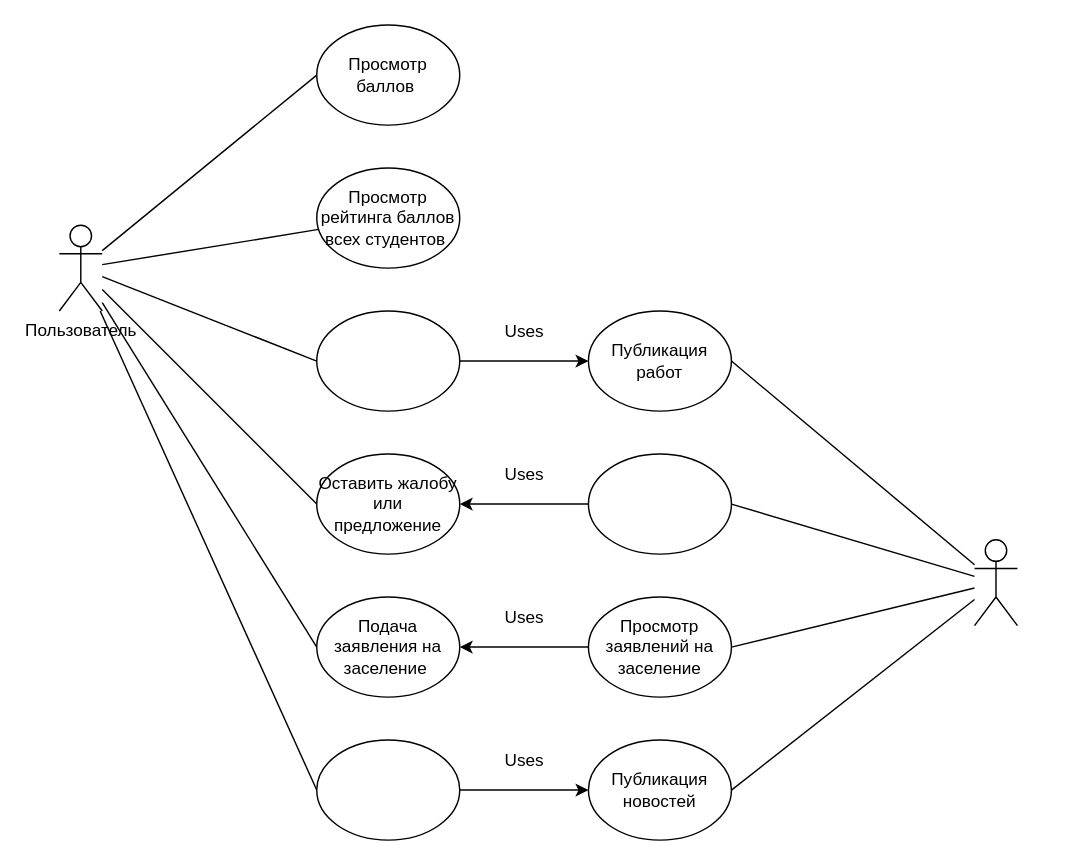
The diagram is 1083 pixels wide and 865 high, and some of its shapes have lost their labels. Each missing label, with the box of its shape:
Администратор: (973, 538, 1017, 626)
Запись на работу: (315, 310, 460, 411)
Посмотреть новости: (315, 739, 460, 840)
Просмотр жалоб и предложений: (587, 453, 731, 554)
